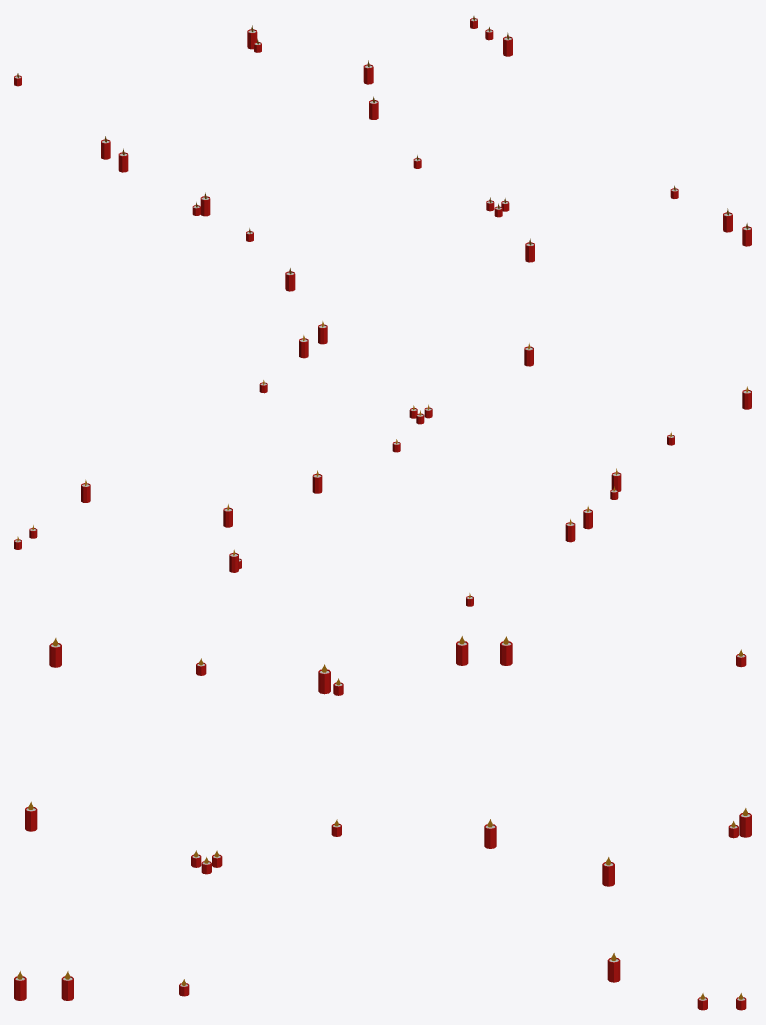
The model's file is velas.obj.
3 views of the same model, one above another, from view 1: azimuth 30°, elevation 25°; view 2: azimuth 150°, elevation 25°; view 3: azimuth 270°, elevation 25° (orthographic). The views are drawn at different scales.
Bounding box in the file's own units: 1.48 × 0.2254 × 1.62.
